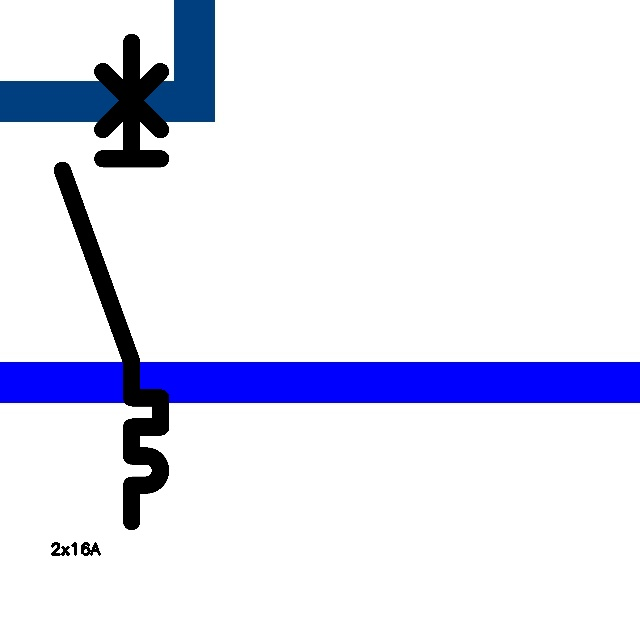interruptor_termomagnetico: (50, 30, 173, 534)
